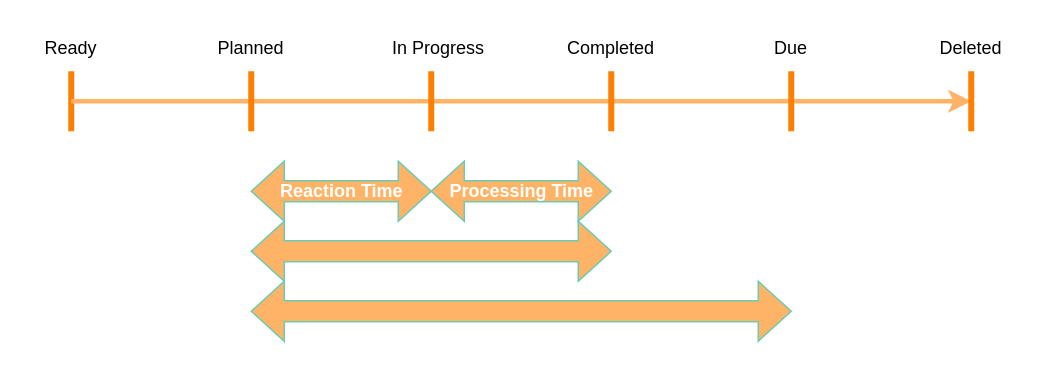
Some shapes in this 1041 by 368 pixel diagram are drawn without their labels. The box of each missing label's shape, as (x1, y1, x2, y2) in pixels:
Lead Time: (250, 220, 611, 281)
Service Level: (250, 280, 791, 341)
